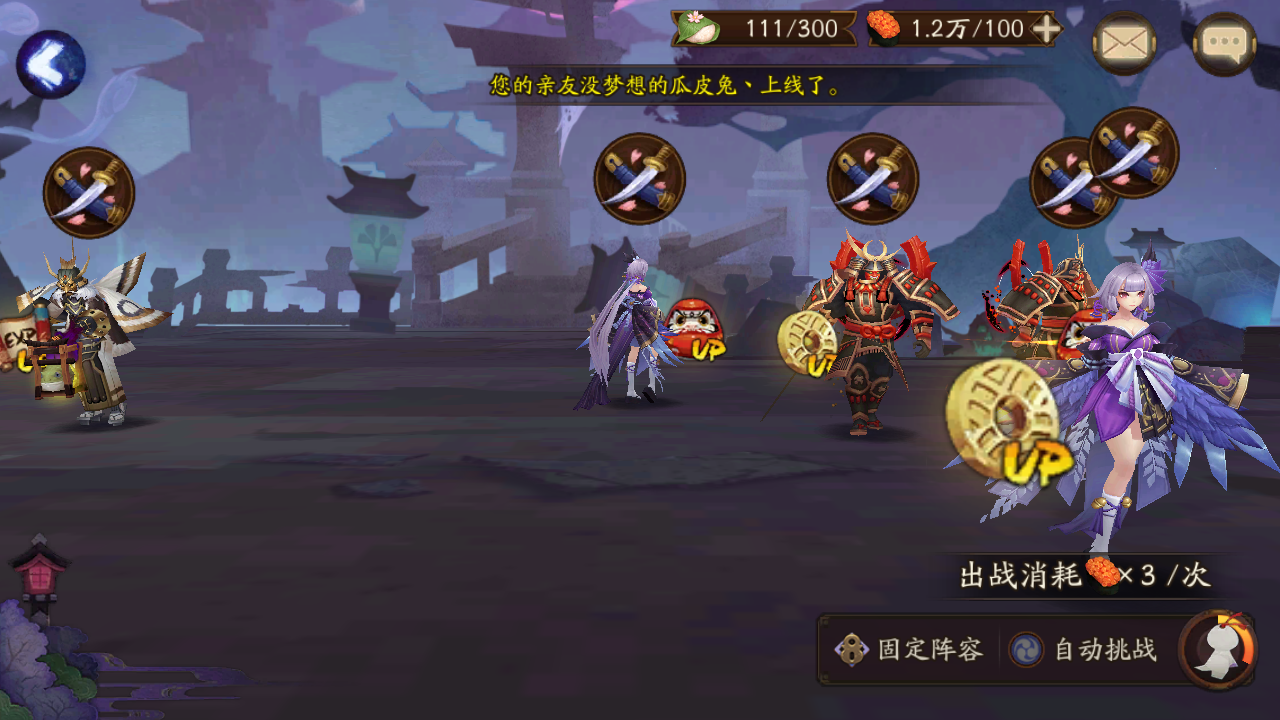experience: (1, 307, 58, 376)
material: (660, 294, 732, 366)
money: (947, 354, 1075, 491), (773, 305, 840, 383)
